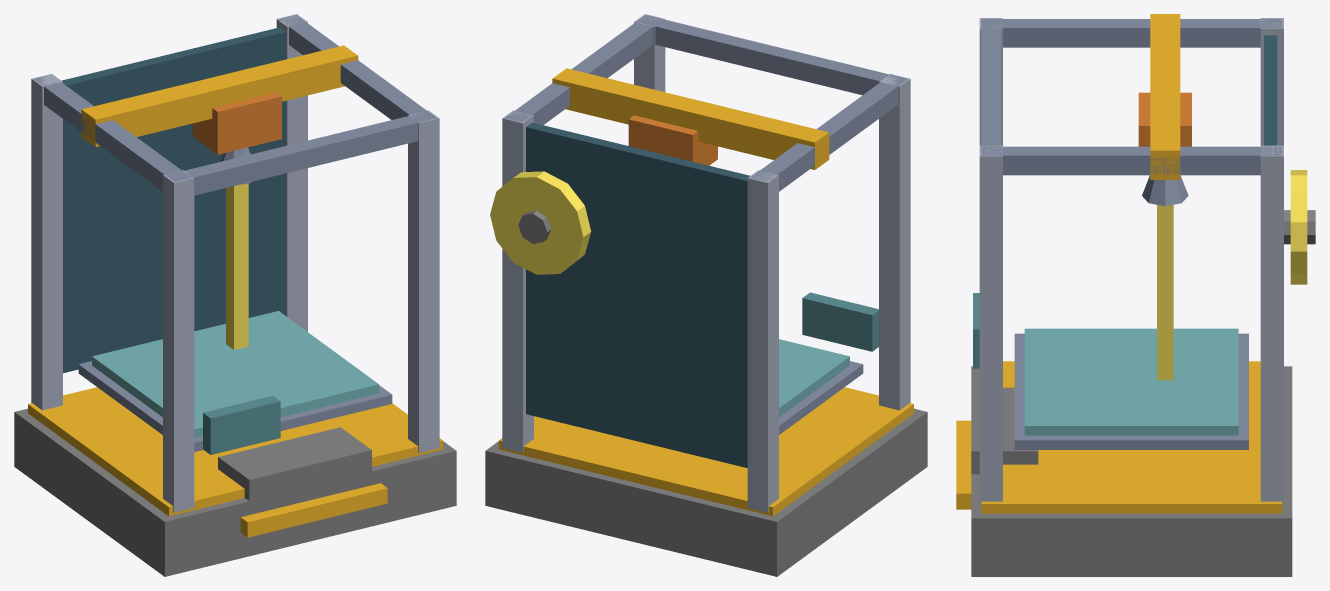
File: printer3d.glb
3 renders of one model, left to right at view 1: azimuth 30°, elevation 25°; view 2: azimuth 150°, elevation 25°; view 3: azimuth 270°, elevation 25°, orthographic. The views are drawn at different scales.
Parts seen in each view (by area): view 1: printer3d; view 2: printer3d; view 3: printer3d.
Part boxes in pixels (box(x1,y1,x2,y2)): printer3d: box(14, 14, 456, 576); printer3d: box(485, 14, 927, 576); printer3d: box(956, 14, 1315, 576).
Size of the model in its own units: 1 by 1.28 by 1.
